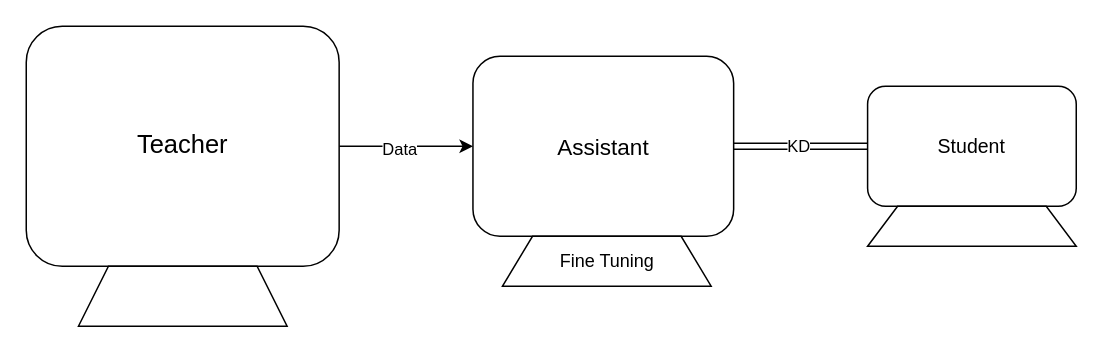
Image size: 1103x353. Some labels were removed from this diagram. Here are the shapes that lost their labels. From the top down, the centre of each, then its label:
At [971,225]: "Distilled".
At [182,295]: "Genereta Data".
